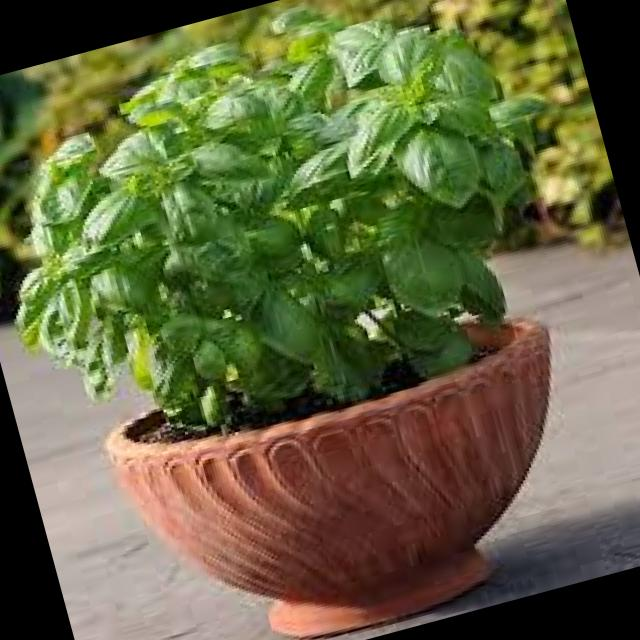Sweet Basil: (0, 0, 590, 465)
